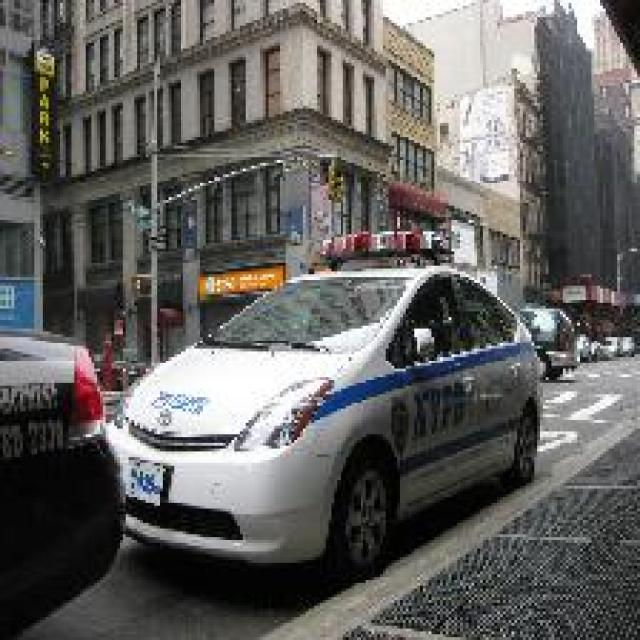Police-car: (103, 229, 543, 577)
